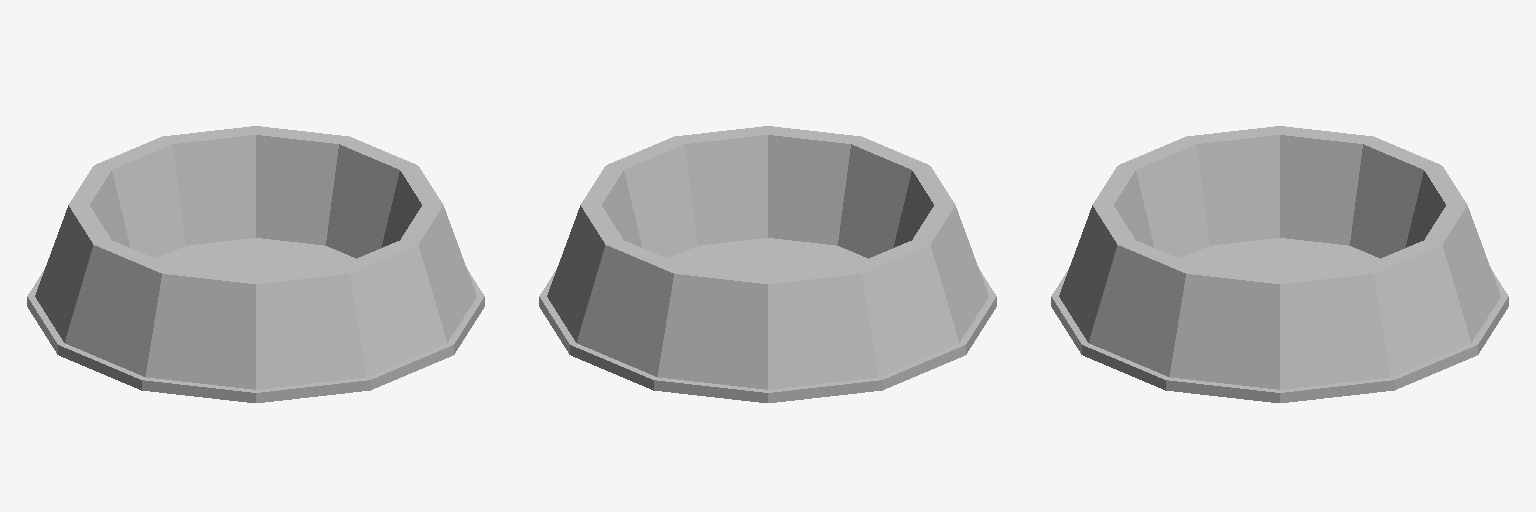
File: Bowl.obj
3 views of the same model, side by side, from view 1: azimuth 30°, elevation 25°; view 2: azimuth 150°, elevation 25°; view 3: azimuth 270°, elevation 25° (orthographic).
Parts seen in each view (by area): view 1: Bowl_Circle; view 2: Bowl_Circle; view 3: Bowl_Circle.
Boxes of the visible parts, x1=… form: Bowl_Circle: x1=27, y1=126, x2=484, y2=402; Bowl_Circle: x1=539, y1=126, x2=996, y2=402; Bowl_Circle: x1=1051, y1=126, x2=1508, y2=402.
Size of the model in its own units: 0.9268 by 0.2274 by 0.9268.